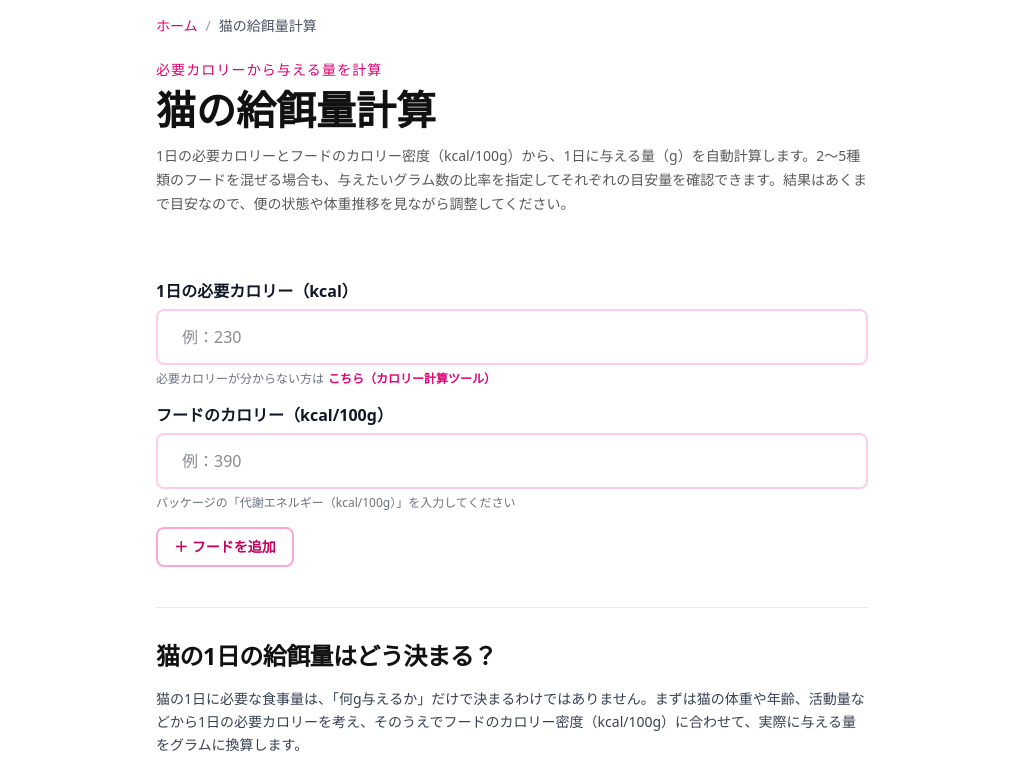
CatFeedingCalculator multi-food › 数値以外の入力でエラーメッセージを表示する
Type "あああ" into the field labelled "フードのカロリー（kcal/100g）" at (512, 461), box [156,433,868,489]
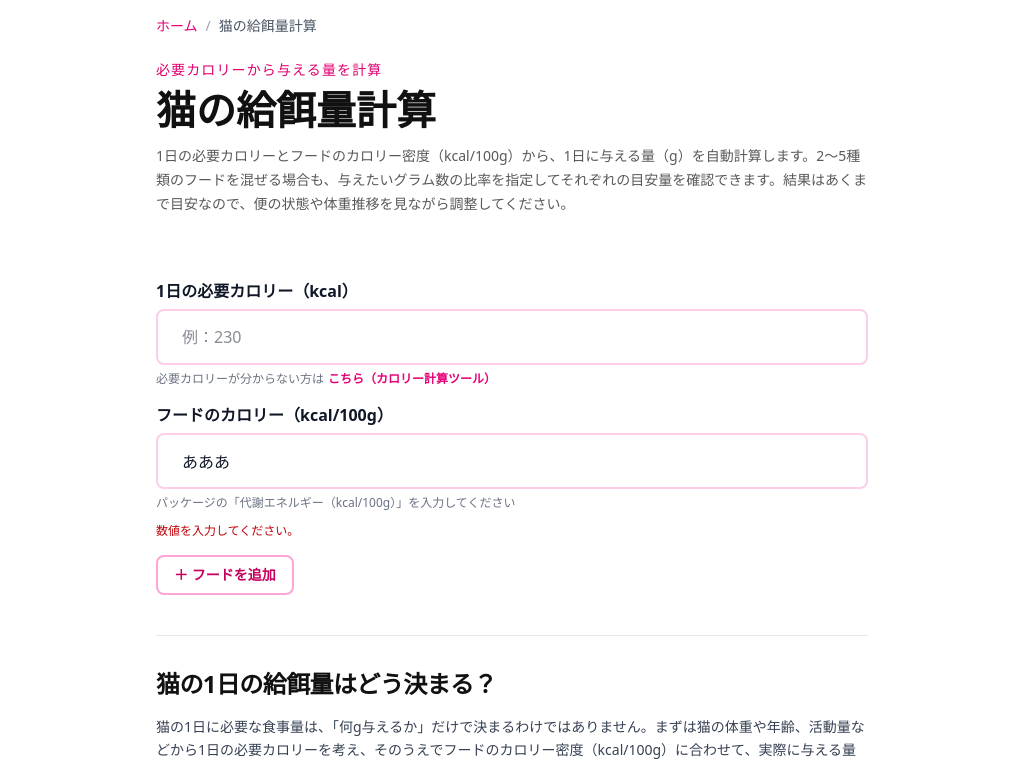
Now the text "数値を入力してください。" is shown, box [156,522,299,539]
